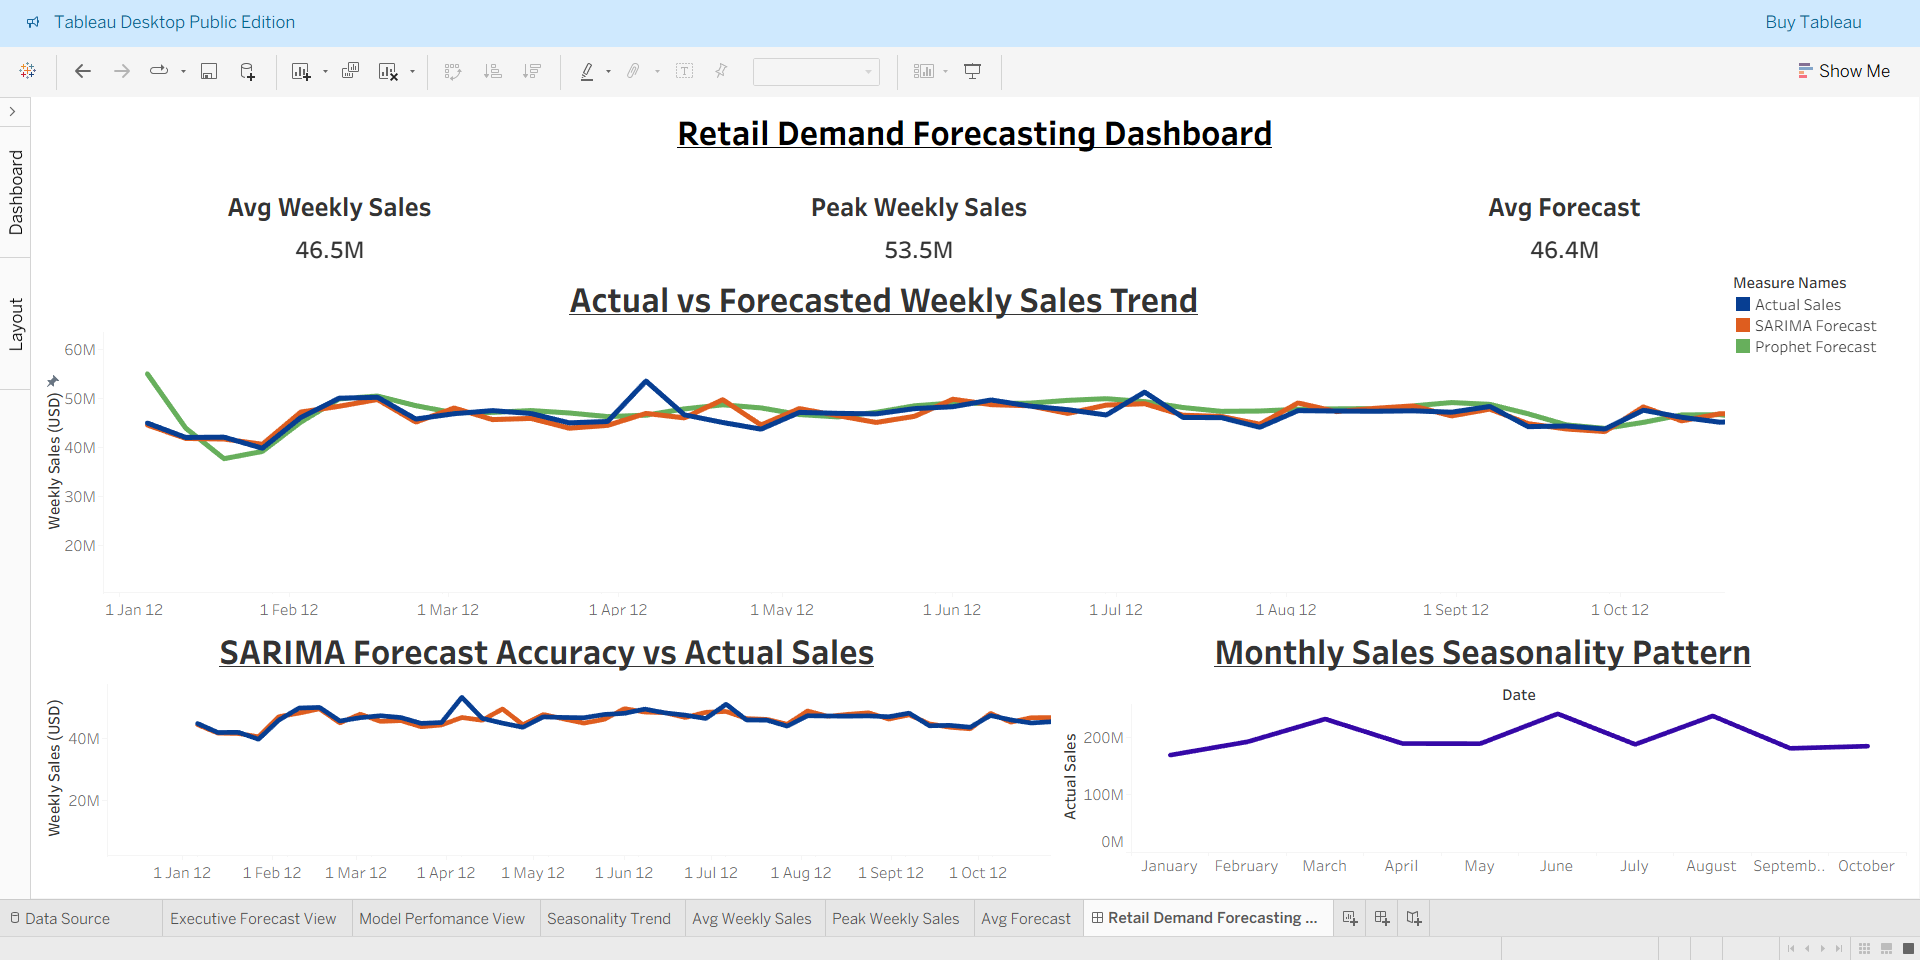

What the dashboard file says about the page in this screenshot:
{"tool":"tableau","page":{"name":"Retail Demand Forecasting Dashboard(Walmart Sales Forecast Analysis)","canvas":[1000,1000],"units":"permille","ordinal":0},"visuals":[{"type":"text","box":[4.2,10,991.5,94.9]},{"type":"worksheet","title":"Avg Weekly Sales","mark":"Automatic","box":[4.2,104.9,307.7,108.6]},{"type":"worksheet","title":"Peak Weekly Sales","mark":"Automatic","box":[311.9,104.9,316.8,108.6]},{"type":"worksheet","title":"Avg Forecast","mark":"Automatic","box":[628.7,104.9,367.1,108.6]},{"type":"worksheet","title":"Executive Forecast View","mark":"Line","cols":["Date"],"box":[4.2,213.5,895.3,439.4]},{"type":"legend","title":"Executive Forecast View","param":"[federated.0i1rt280f03qcn1adncgq0u0lruu].[:Measure Names]","box":[899.6,213.5,96.2,439.4]},{"type":"worksheet","title":"Model Perfomance View","mark":"Line","cols":["Date"],"box":[4.2,652.9,538.2,337.1]},{"type":"worksheet","title":"Seasonality Trend","mark":"Automatic","rows":["Actual_Sales"],"cols":["Date"],"box":[542.5,652.9,453.3,337.1]}]}

Visuals, with their boxes on the dashboard's canvas, which has no fixed pixel size, in thousandths of its width and height (x1, y1, x2, y2). These are canvas units, not pixel positions in the 1920x960 screenshot, which may show the page scaled, cropped or inside an application window:
text: [4, 10, 996, 105]
"Avg Weekly Sales" worksheet: [4, 105, 312, 214]
"Peak Weekly Sales" worksheet: [312, 105, 629, 214]
"Avg Forecast" worksheet: [629, 105, 996, 214]
"Executive Forecast View" worksheet (Line marks): [4, 214, 900, 653]
"Executive Forecast View" legend: [900, 214, 996, 653]
"Model Perfomance View" worksheet (Line marks): [4, 653, 542, 990]
"Seasonality Trend" worksheet: [542, 653, 996, 990]
